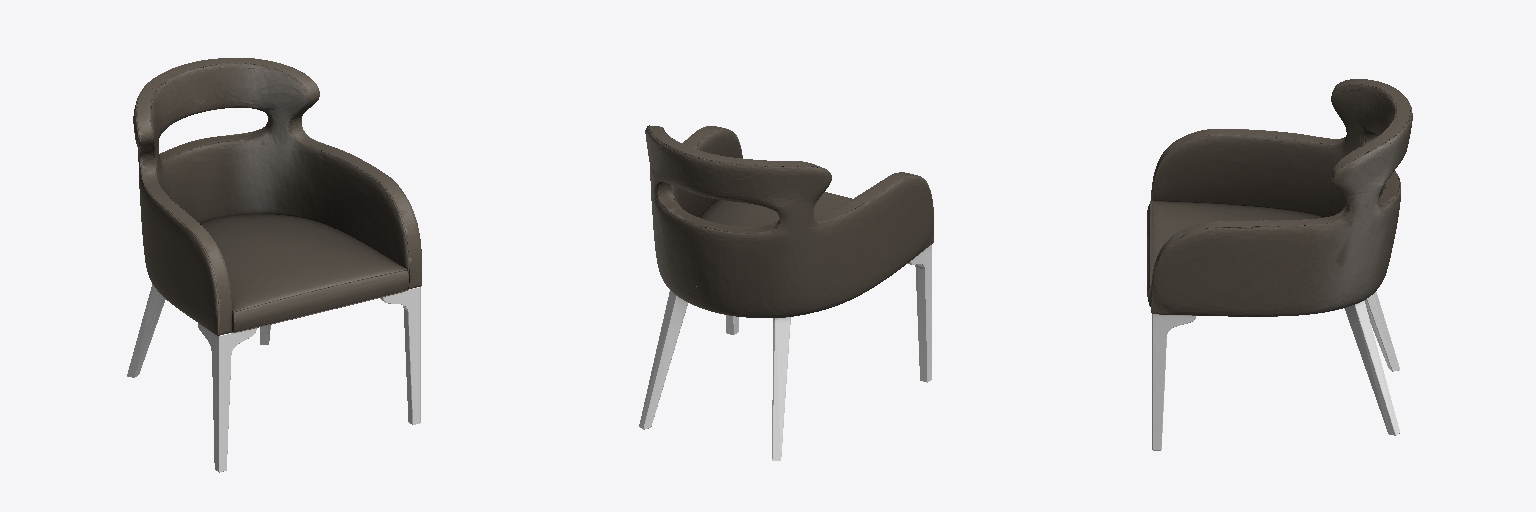
3 views of the same model, side by side, from view 1: azimuth 30°, elevation 25°; view 2: azimuth 150°, elevation 25°; view 3: azimuth 270°, elevation 25° (orthographic).
Visible parts, largest first — view 1: solid_001, solid_002; view 2: solid_001, solid_002; view 3: solid_001, solid_002.
Part boxes in pixels (x1,y1,x2,y2): solid_001: (133, 58, 421, 335); solid_002: (127, 284, 420, 472); solid_001: (645, 125, 933, 317); solid_002: (639, 245, 931, 460); solid_001: (1147, 79, 1412, 316); solid_002: (1152, 292, 1399, 450).
Bounding box in the file's own units: 0.6992 × 0.9276 × 0.7664.
1 materials, 1 textured.